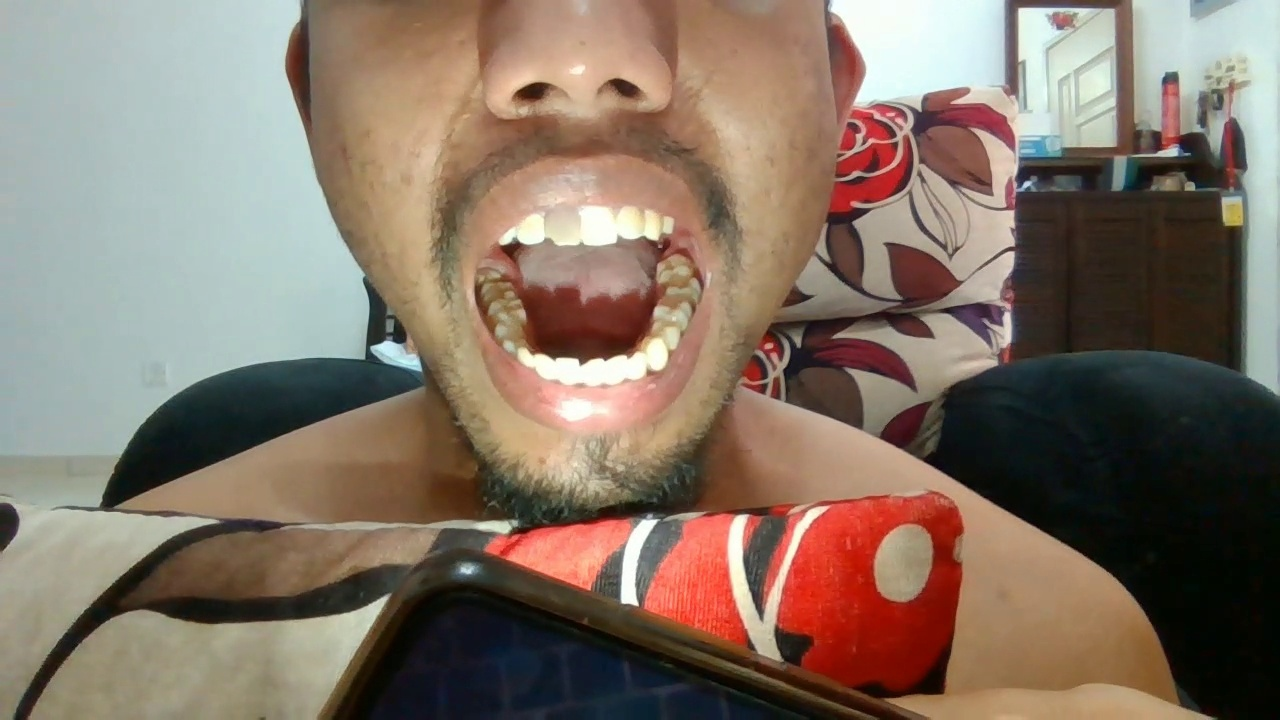1st Molar: (653, 297, 691, 329), (487, 299, 526, 324)
1st Premolar: (641, 335, 669, 372), (503, 338, 529, 354), (661, 216, 676, 233)
2nd Molar: (664, 278, 703, 299), (480, 281, 517, 302)
2nd Premolar: (650, 318, 680, 349), (495, 320, 523, 342)
3rd Molar: (655, 253, 694, 281), (473, 265, 502, 282)
Canine: (645, 208, 662, 242), (628, 352, 647, 379), (518, 347, 535, 368), (498, 227, 516, 246)
Central Incisor: (581, 205, 618, 246), (545, 205, 581, 245), (554, 357, 580, 385), (581, 356, 605, 386)
Lateral Incisor: (619, 202, 646, 240), (516, 213, 545, 245), (606, 353, 628, 384), (534, 352, 554, 380)
